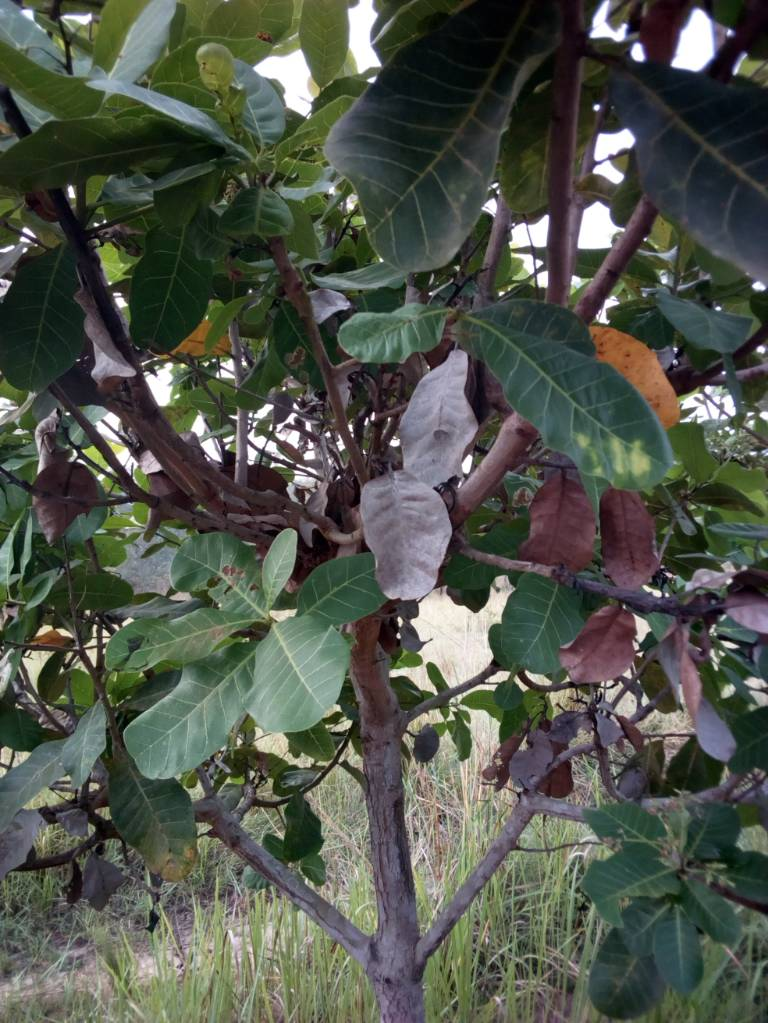Dessèchement des bourgeons: (594, 561, 726, 693), (36, 457, 102, 539)
